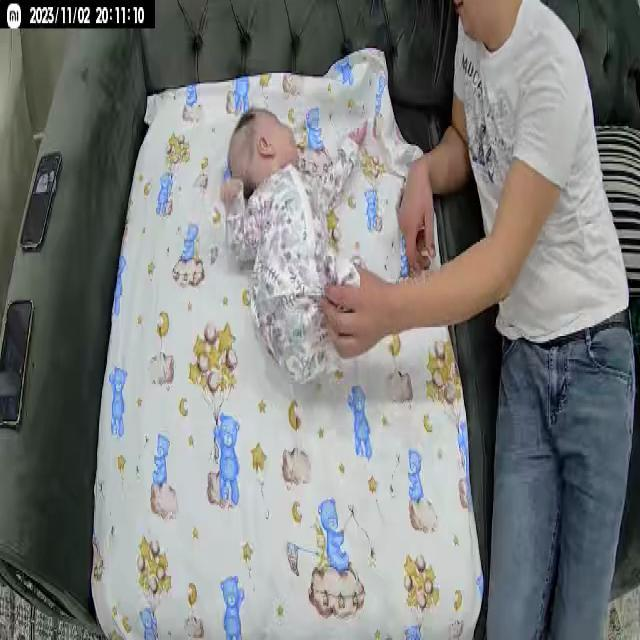baby: (215, 111, 371, 387)
